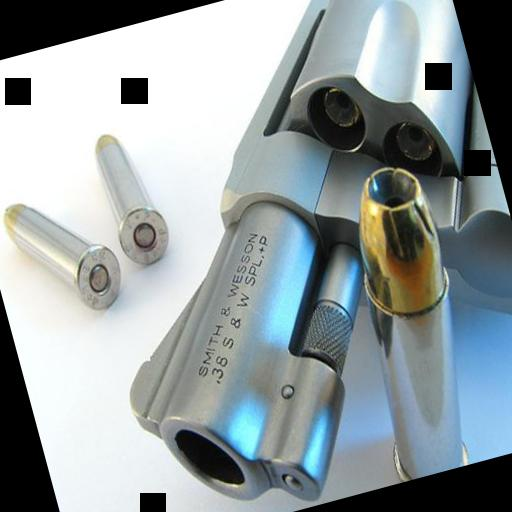Handgun: (33, 0, 512, 512)
